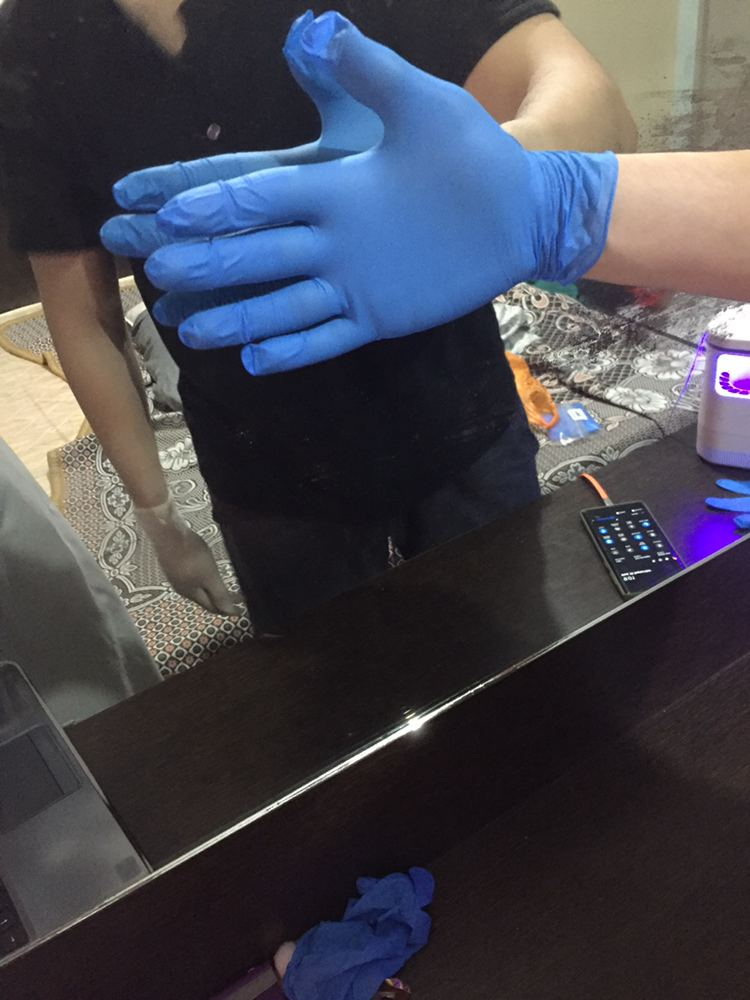glove: (115, 15, 592, 425)
